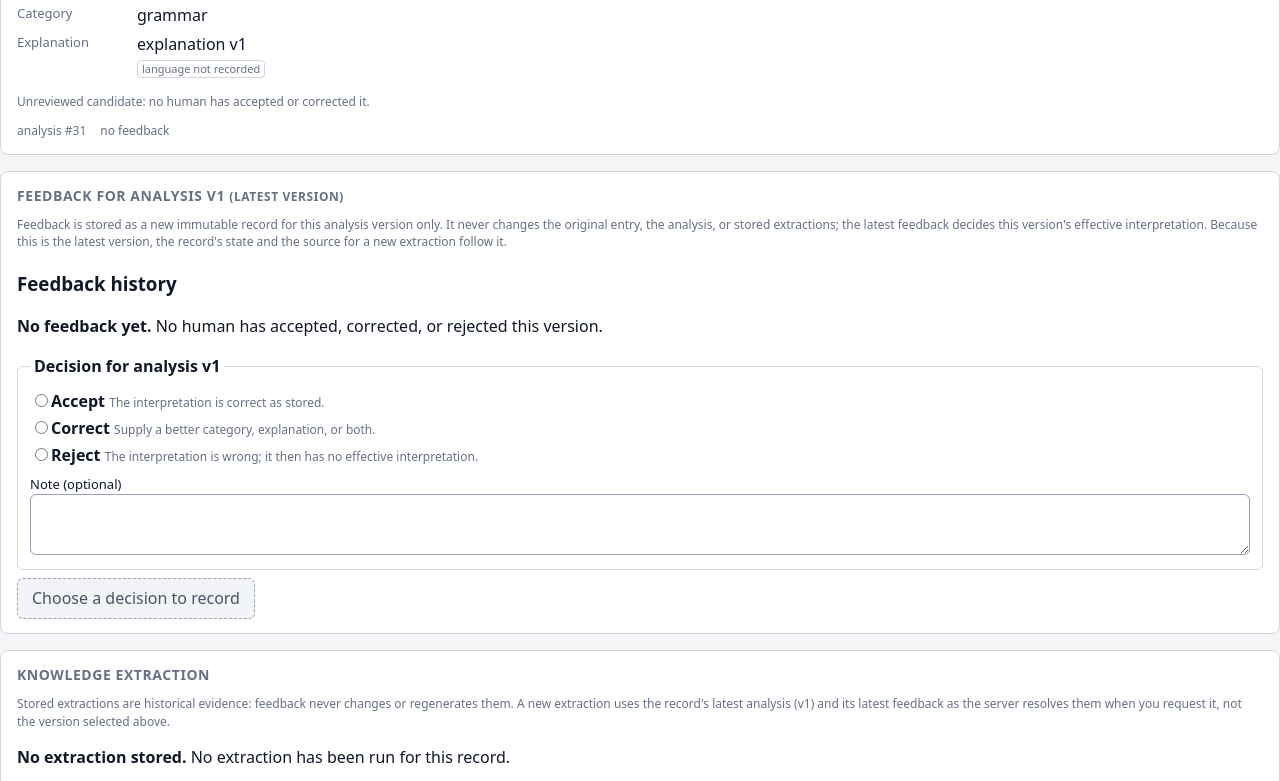
Test: StrictMode: responses settle after effect replay › feedback: a stored decision clears pending, the draft, and shows both re-reads
(page scrolled)
Expected: the text "No feedback yet." is shown, [17, 315, 152, 337]
Click the radio button labelled "Accept The interpretation is correct as stored.": (42, 400) [35, 394, 48, 407]
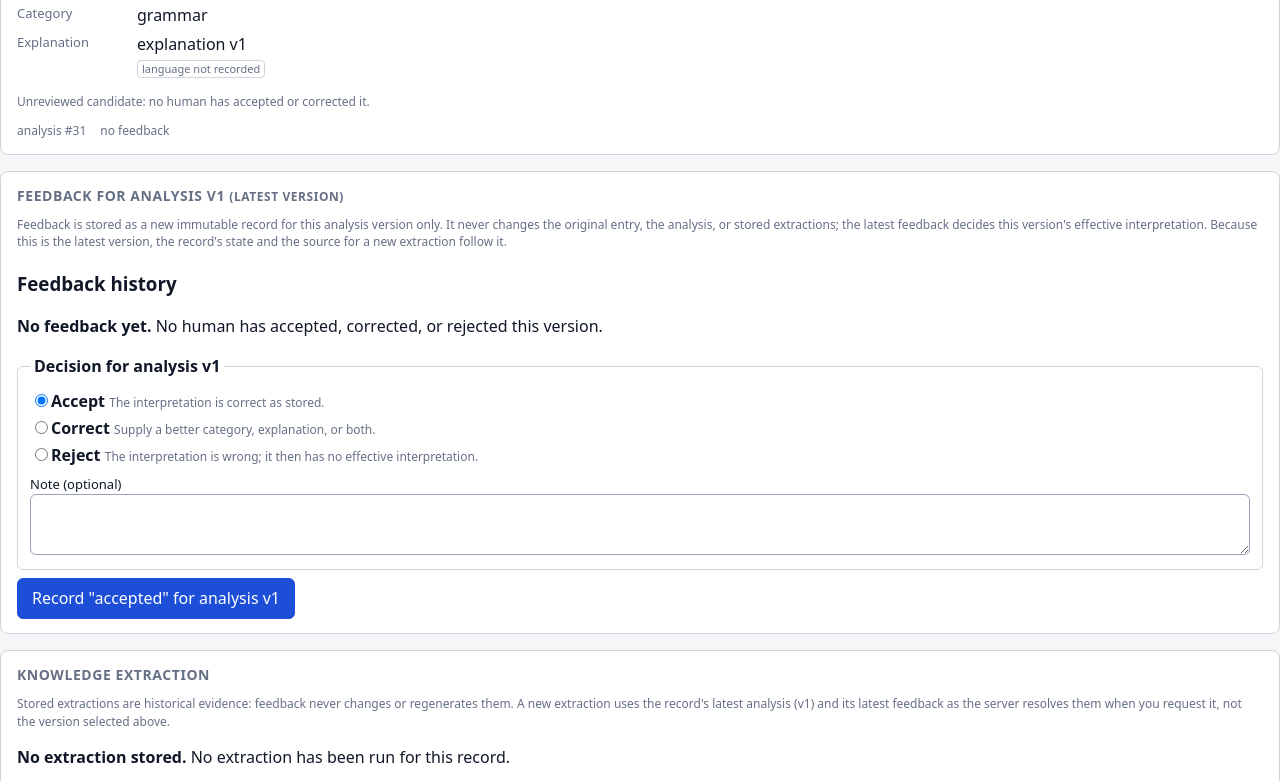
Click the button "Record \"accepted\" for analysis v1": (156, 598) [17, 578, 295, 619]
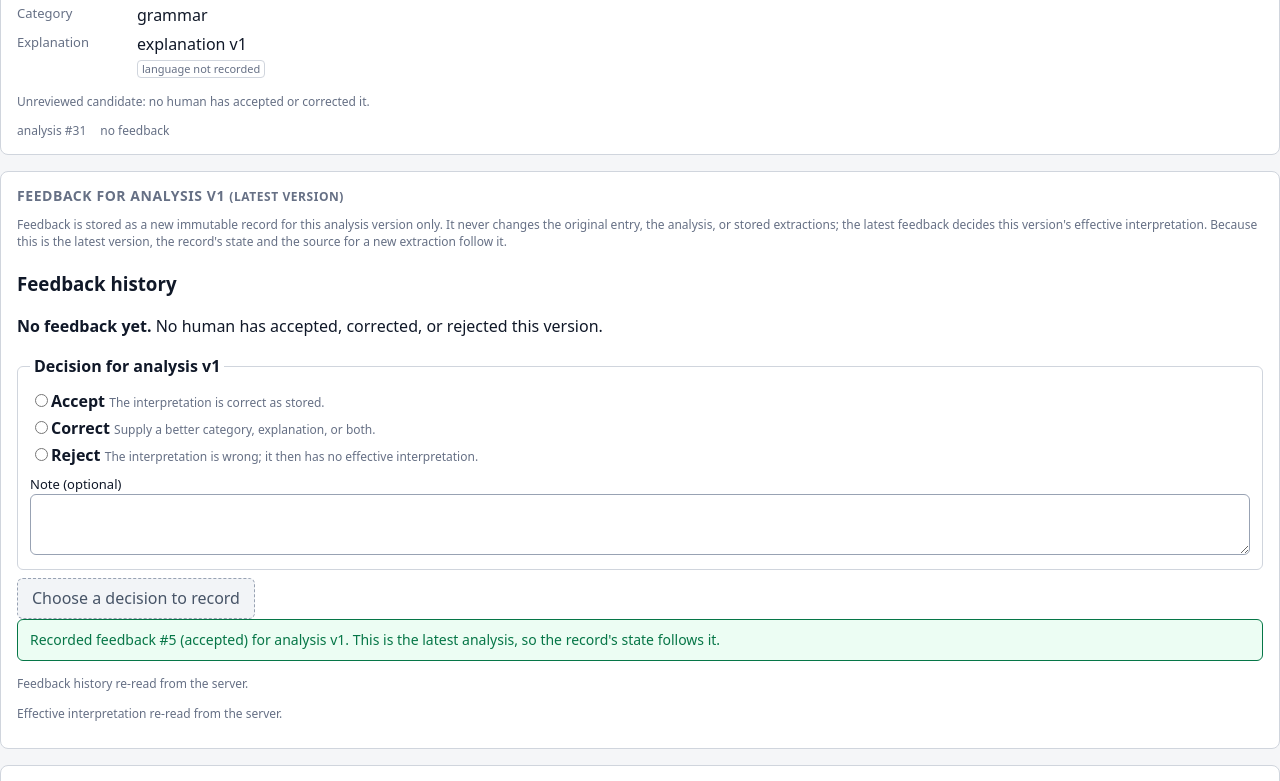
Expected: the 1st message is shown, [17, 619, 1263, 661]
Expected: the message "Feedback history re-read from the server." is shown, [17, 675, 248, 692]
Expected: the message "Effective interpretation re-read from the server." is shown, [17, 705, 282, 722]
